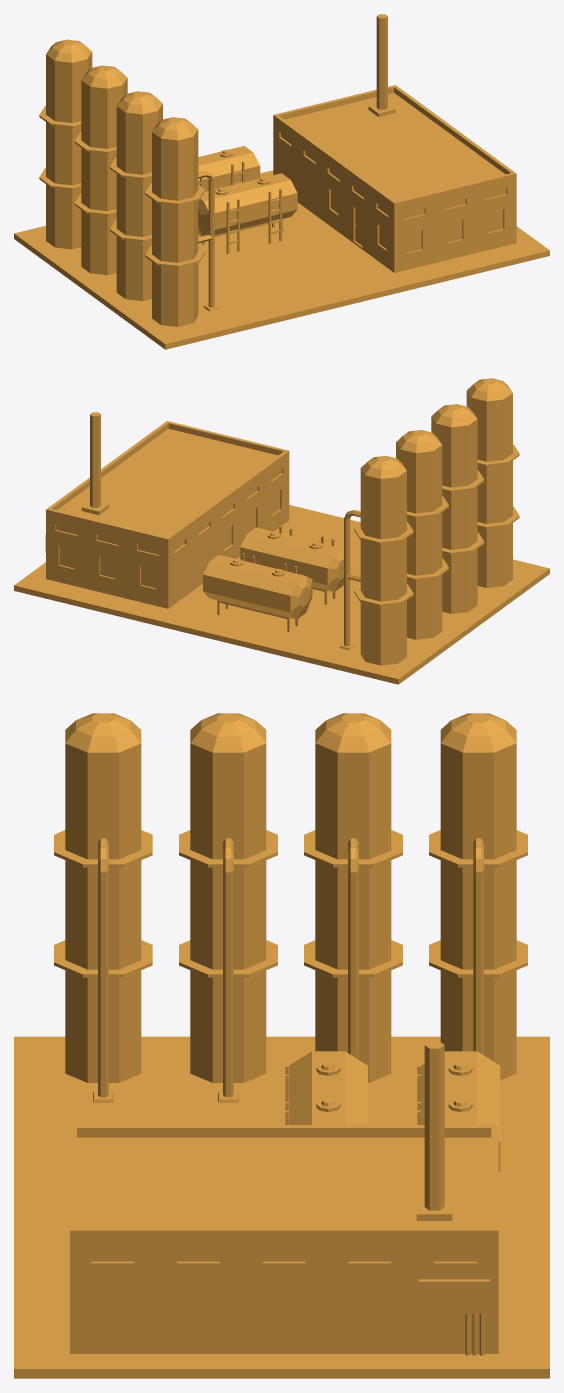
The model's file is industry-refinery.glb.
The picture shows the model from 3 angles, top to bottom: view 1: azimuth 30°, elevation 25°; view 2: azimuth 150°, elevation 25°; view 3: azimuth 270°, elevation 25°; orthographic projection. The views are drawn at different scales.
Visible parts, largest first — view 1: industry-refinery; view 2: industry-refinery; view 3: industry-refinery.
Part boxes in pixels (x1,y1,x2,y2): industry-refinery: (14, 14, 549, 349); industry-refinery: (14, 378, 549, 684); industry-refinery: (14, 713, 549, 1378).
Bounding box in the file's own units: 22 × 11.07 × 15.
